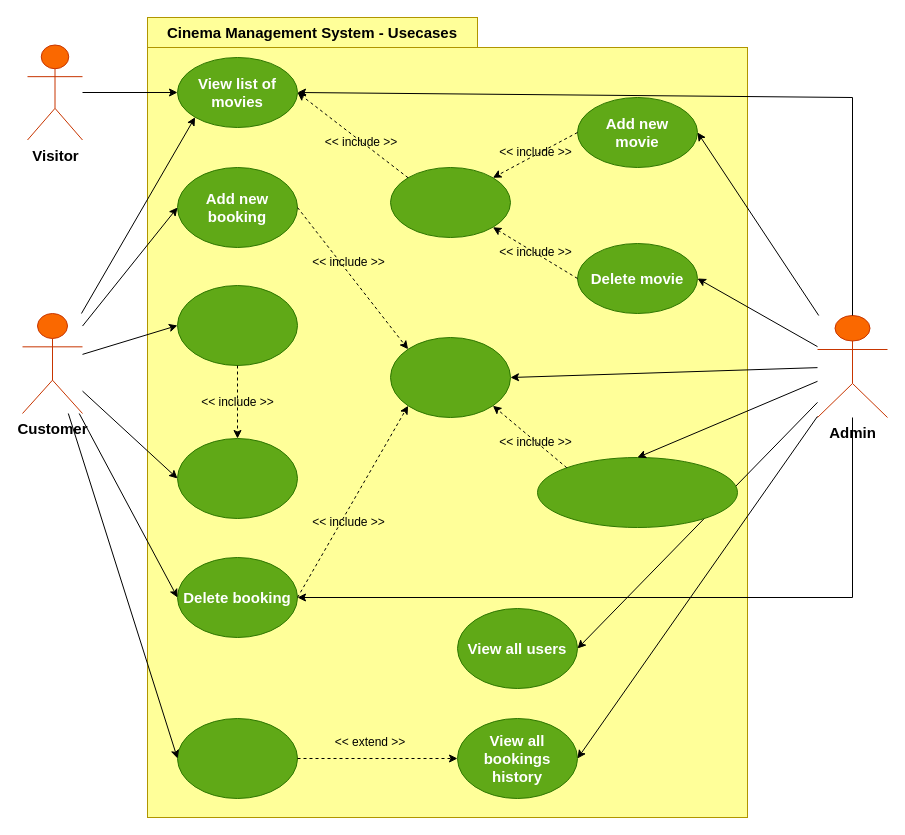
Some shapes in this 905 by 835 pixel diagram are drawn without their labels. The box of each missing label's shape, as (x1, y1, x2, y2) in pixels:
Confirm booking: (176, 284, 298, 366)
Distributue movies to rooms: (536, 456, 738, 528)
Payment: (176, 438, 298, 518)
Update booking: (390, 336, 510, 418)
Update movies: (390, 166, 510, 238)
View one customer's booking: (176, 718, 298, 798)
